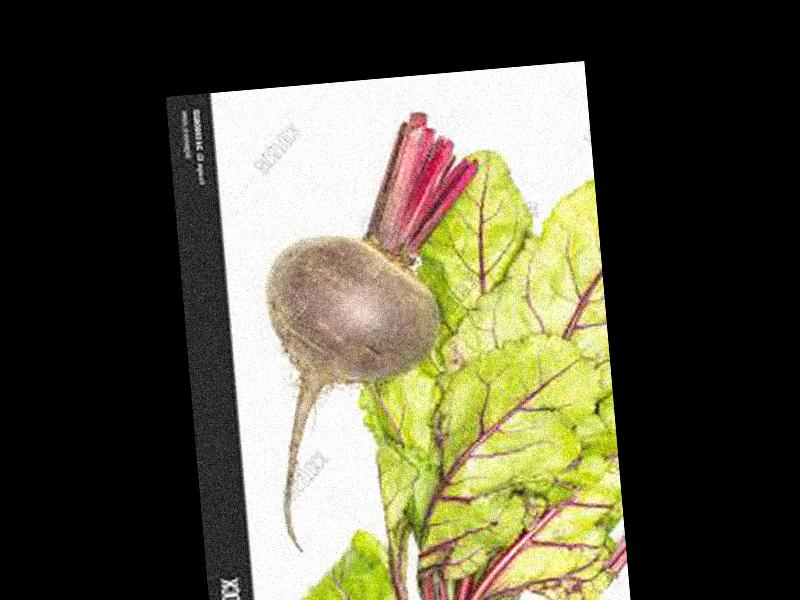Beet: (250, 107, 509, 553)
